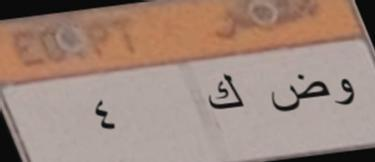4: (91, 95, 120, 140)
daad: (270, 72, 330, 123)
kaaf: (206, 70, 247, 115)
waw: (336, 71, 359, 111)
